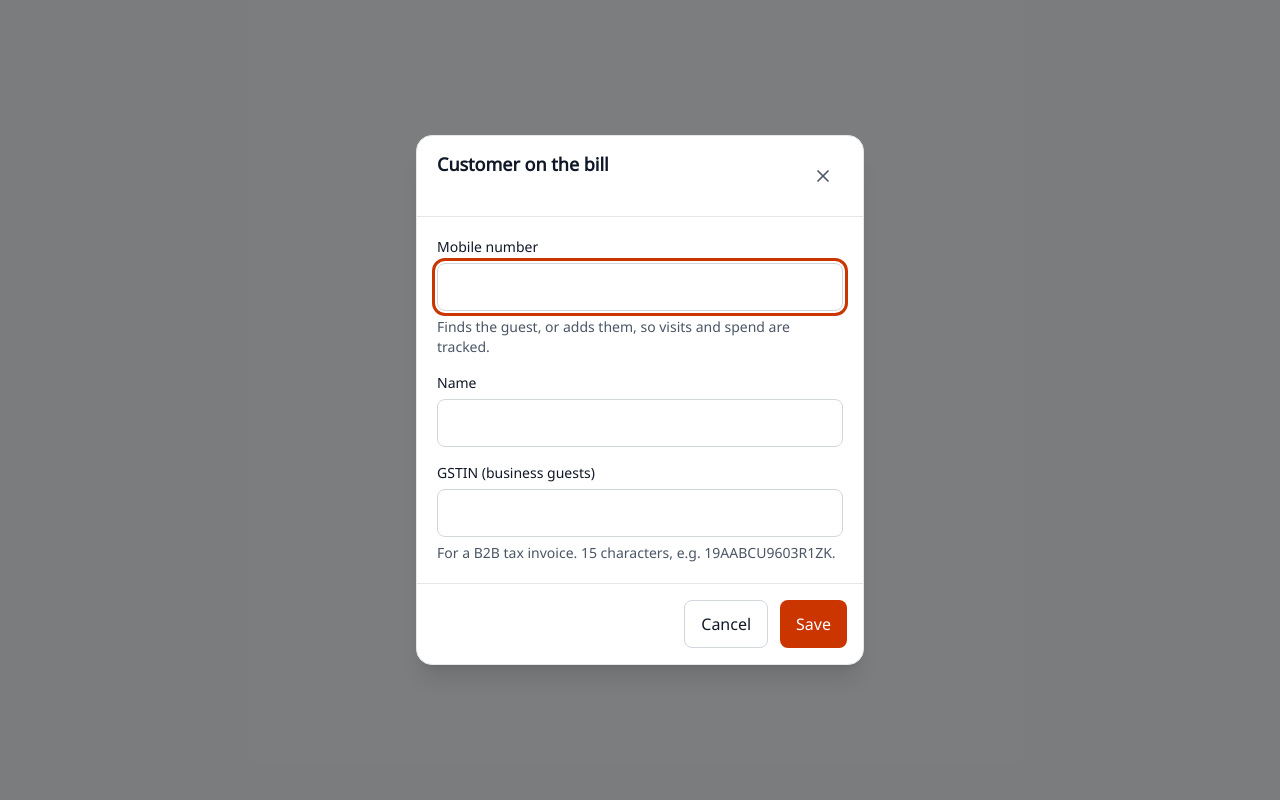
Test: Customer lookup at billing › fills a known guest in when their full number is typed, and says when a number is new
In the field labelled "Mobile number": {"x": 640, "y": 287} [437,263,843,311], type "98300 12345"
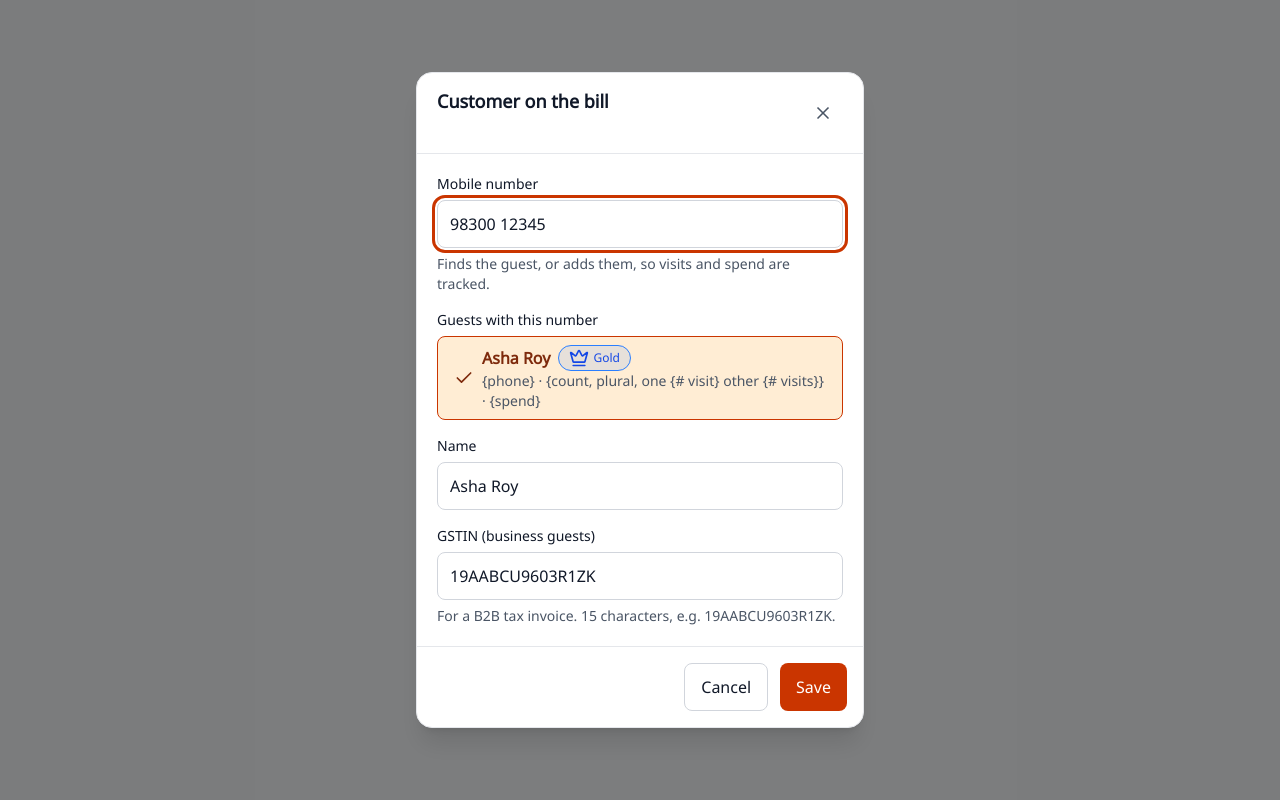
expect the field labelled "Name" holds "Asha Roy": met, box [437,462,843,510]
Replace the text in the field labelled "Mobile number" with "7001234567": {"x": 640, "y": 224} [437,200,843,248]
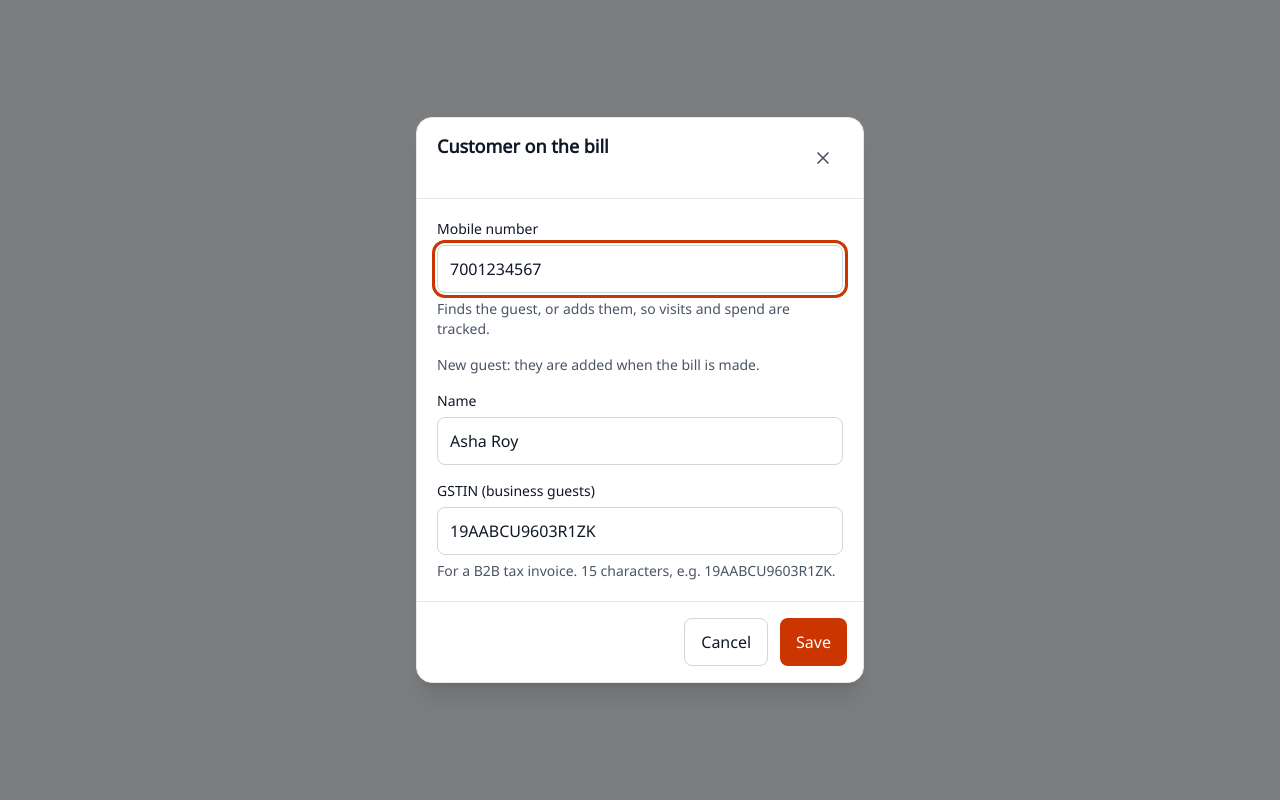
expect the text "New guest: they are added when the bill is made." is shown: met, box [437,355,760,374]
